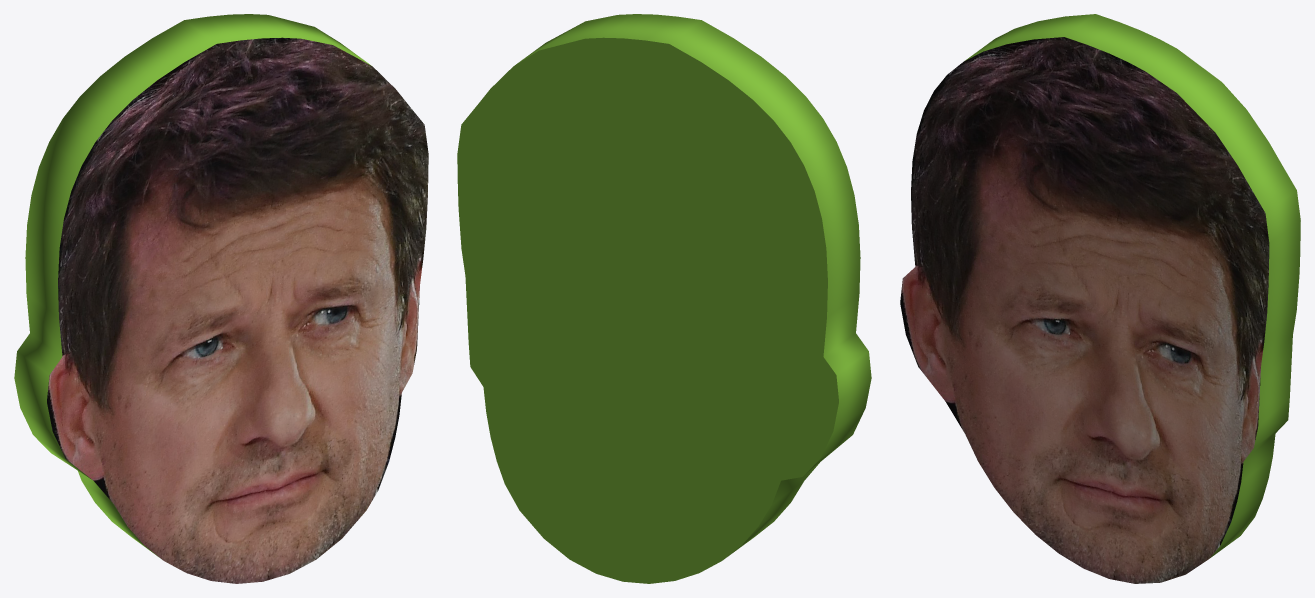
Rendered from Yannick_Jadot.glb.
3 renders of one model, left to right at view 1: azimuth 30°, elevation 25°; view 2: azimuth 150°, elevation 25°; view 3: azimuth 330°, elevation 25°, orthographic. The views are drawn at different scales.
Parts seen in each view (by area): view 1: Curve; view 2: Curve; view 3: Curve.
Part boxes in pixels (left/top/right/bottom): Curve: left=14, top=14, right=428, bottom=583; Curve: left=457, top=14, right=871, bottom=583; Curve: left=900, top=14, right=1300, bottom=583.
Bounding box in the file's own units: 1.02 × 1.4 × 0.15.
2 materials, 1 textured.
